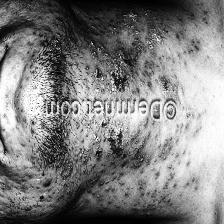Toxin: (92, 40, 134, 88), (92, 119, 132, 161), (28, 154, 58, 196)
